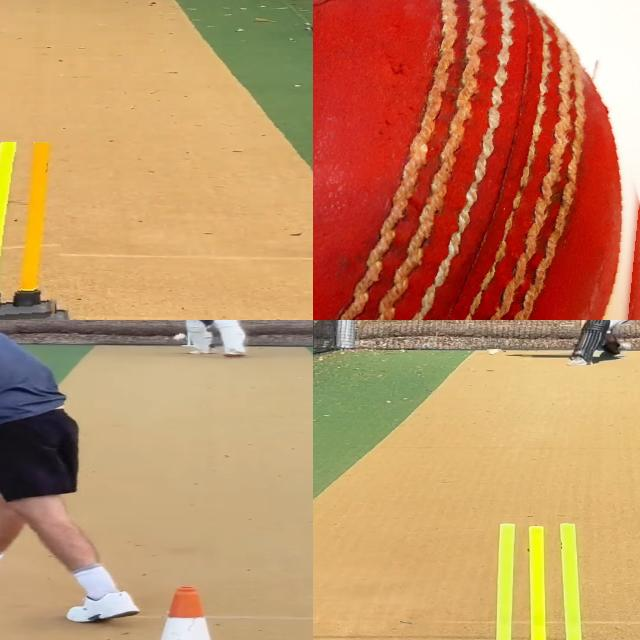Cricket ball: (313, 0, 640, 320), (172, 332, 188, 341), (487, 350, 501, 358)
Stumps: (473, 521, 605, 640), (0, 141, 72, 320)
